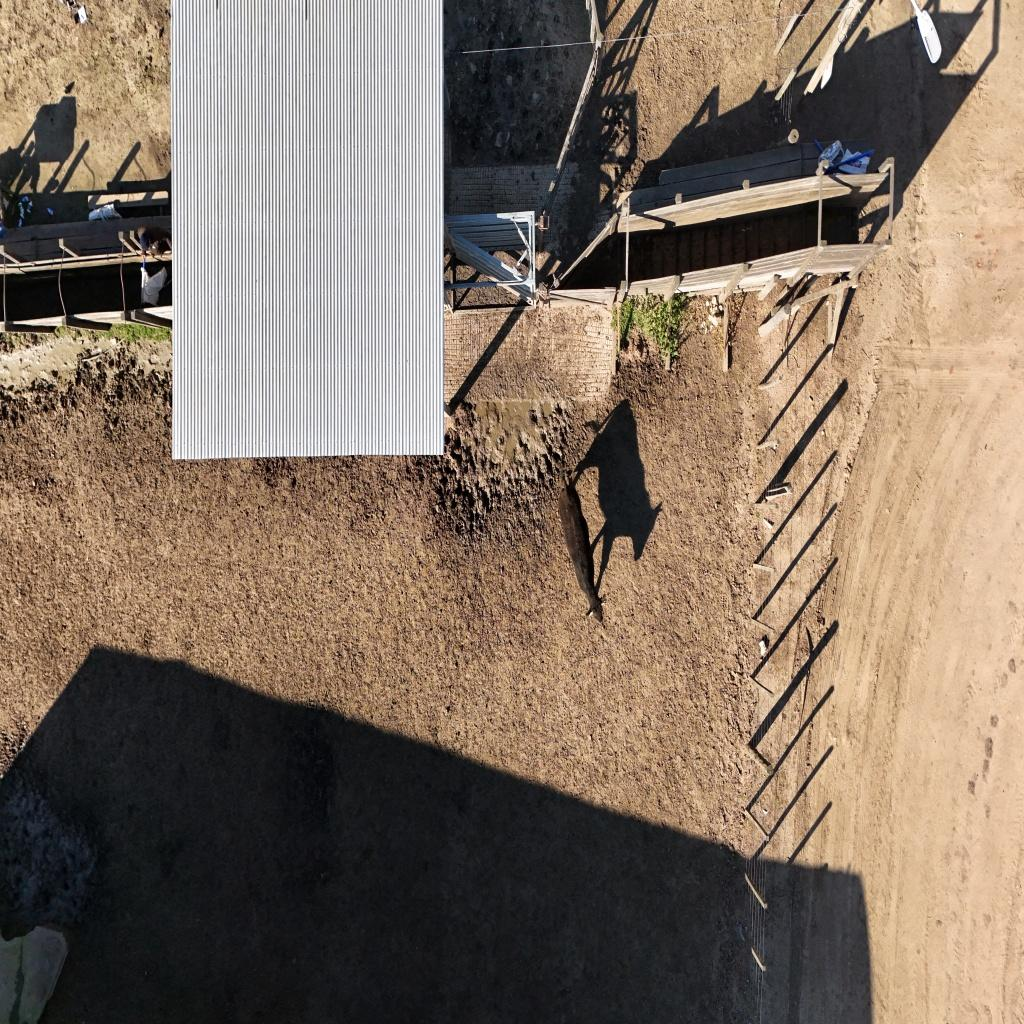cow: (551, 477, 613, 629)
